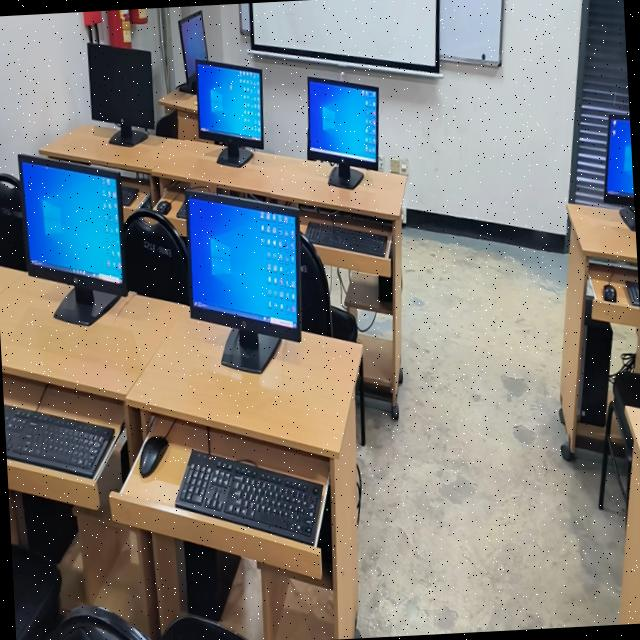Chair: (56, 598, 260, 640), (299, 228, 353, 344), (125, 212, 187, 297), (610, 309, 640, 435), (0, 164, 24, 267)
Cpu: (574, 321, 620, 433), (175, 554, 242, 620), (9, 492, 76, 554)
Fire Extinguisher: (108, 10, 130, 44), (132, 8, 150, 28)
Keyboard: (173, 448, 323, 549), (5, 402, 110, 479), (303, 213, 387, 259)
Monitor: (187, 186, 302, 380), (17, 148, 128, 322), (304, 66, 383, 190), (194, 52, 266, 169), (87, 44, 156, 140), (604, 113, 636, 238), (176, 6, 210, 83)
Mouse: (136, 430, 171, 481), (600, 282, 620, 304), (156, 197, 173, 217)
